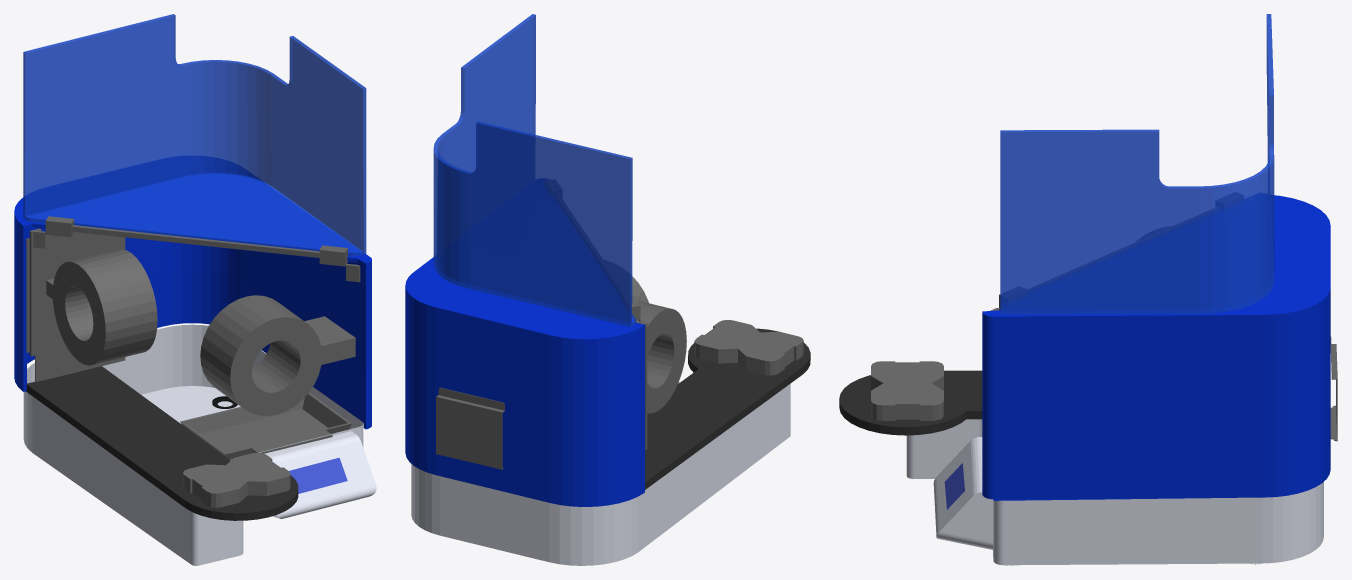
3 views of the same model, side by side, from view 1: azimuth 30°, elevation 25°; view 2: azimuth 150°, elevation 25°; view 3: azimuth 270°, elevation 25° (orthographic). The views are drawn at different scales.
Parts seen in each view (by area): view 1: 040; view 2: 040; view 3: 040.
Boxes of the visible parts, <box> form: 040: <box>14,14,376,565</box>; 040: <box>405,14,810,565</box>; 040: <box>839,14,1337,565</box>.
Bounding box in the file's own units: 93.7 × 158 × 161.
